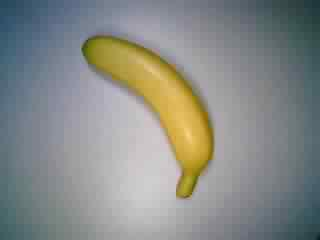banana: (78, 31, 222, 204)
